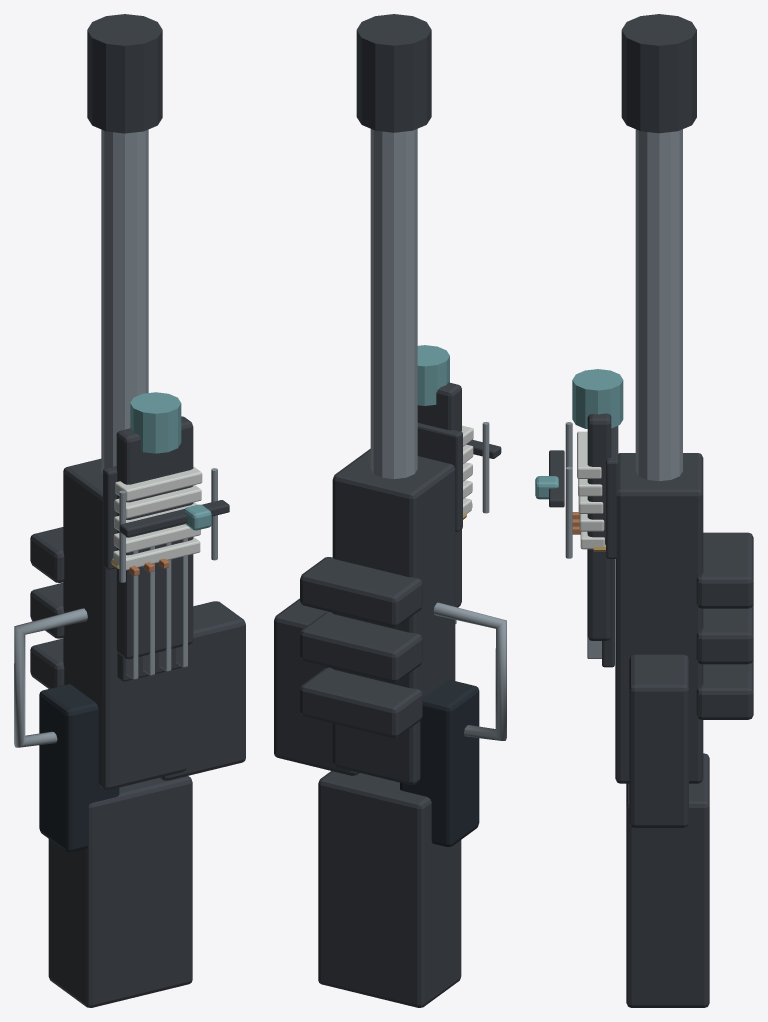
3 renders of one model, left to right at view 1: azimuth 30°, elevation 25°; view 2: azimuth 150°, elevation 25°; view 3: azimuth 270°, elevation 25°, orthographic.
Visible parts, largest first — view 1: TV-341 Vesper Archive — Pulse carbine; view 2: TV-341 Vesper Archive — Pulse carbine; view 3: TV-341 Vesper Archive — Pulse carbine.
Boxes of the visible parts, x1=… form: TV-341 Vesper Archive — Pulse carbine: x1=14, y1=14, x2=245, y2=1007; TV-341 Vesper Archive — Pulse carbine: x1=274, y1=14, x2=506, y2=1007; TV-341 Vesper Archive — Pulse carbine: x1=535, y1=14, x2=753, y2=1007.
Bounding box in the file's own units: 0.2879 × 1.2 × 0.2488.
